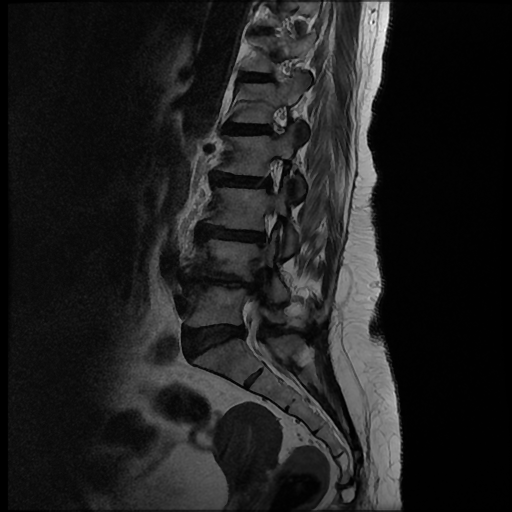LFS0: (254, 98, 304, 151), (249, 152, 299, 201)
